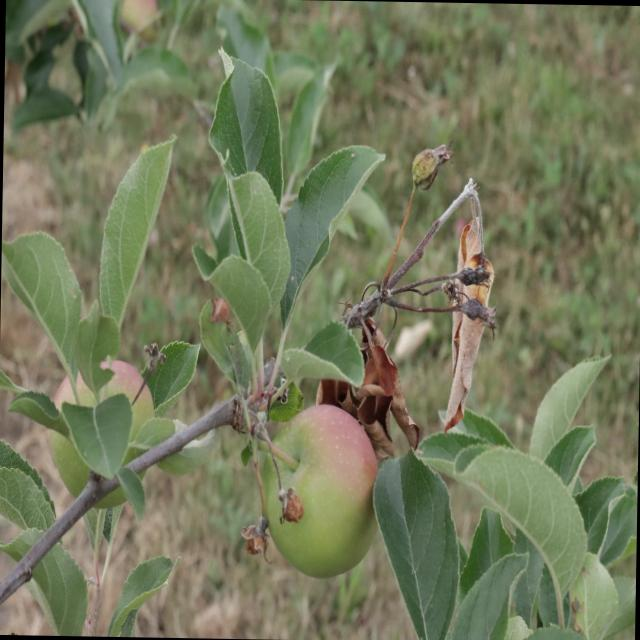-FireBlight-: (436, 176, 492, 424), (342, 310, 420, 447)
